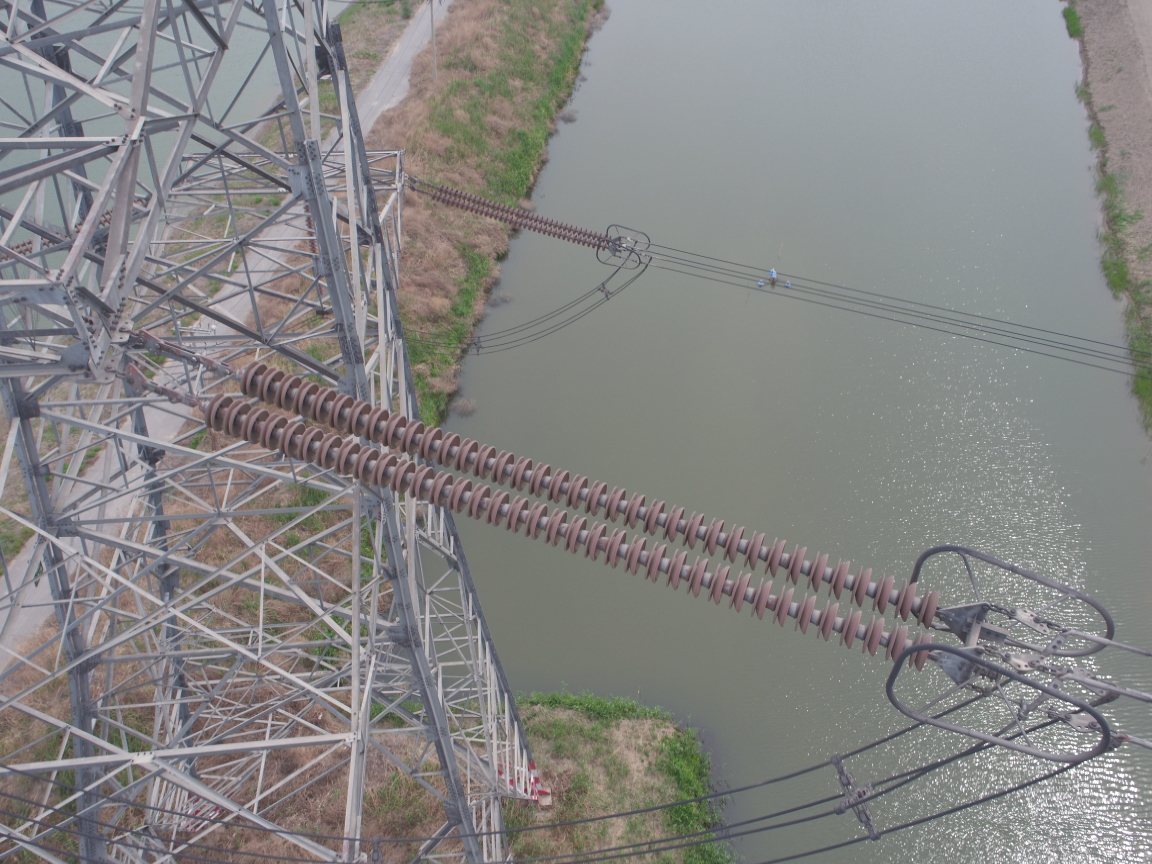insulator: (165, 354, 958, 674), (418, 180, 612, 253)
